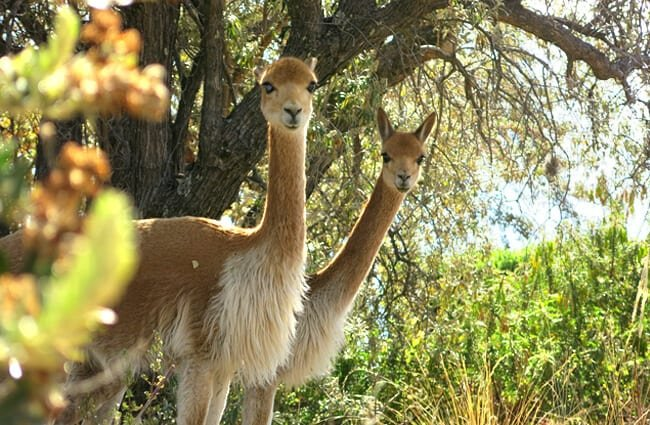eye: (262, 79, 282, 99), (415, 153, 437, 169), (307, 79, 323, 98), (380, 146, 396, 165)
mouth: (278, 106, 302, 130), (398, 169, 415, 193)
